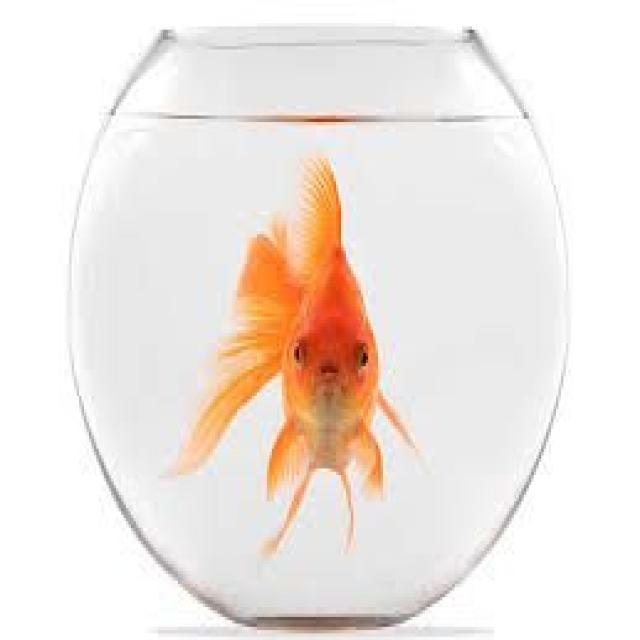Gold-Fish: (139, 104, 425, 577)
